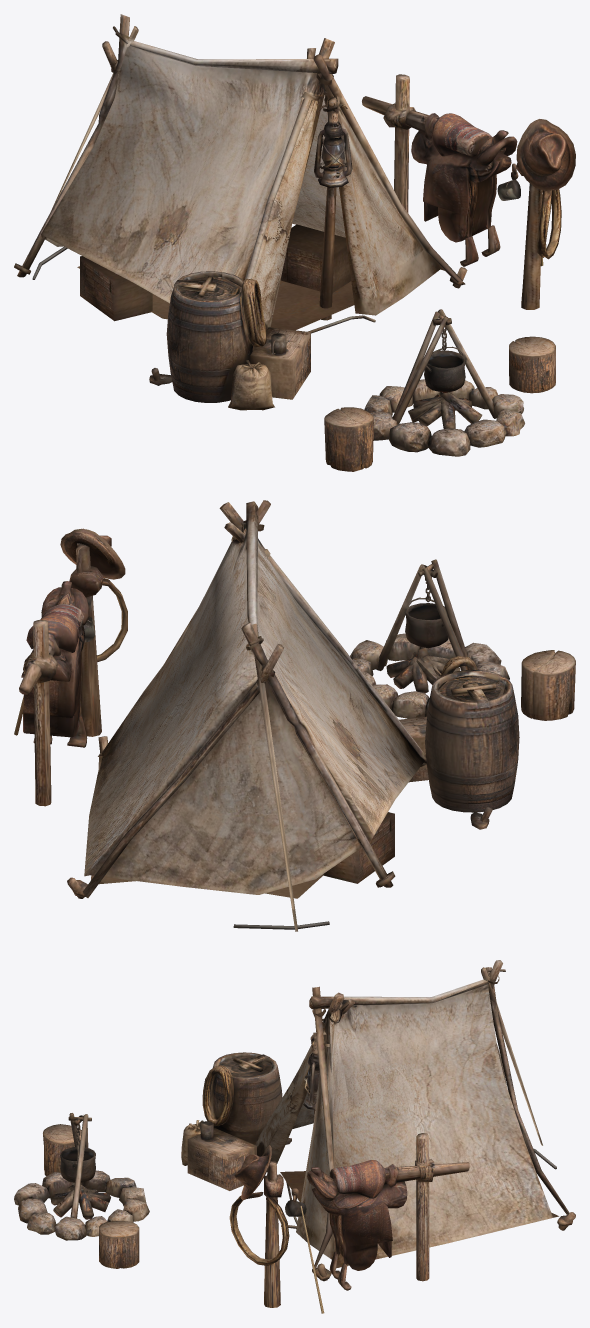
The model's file is camp1.glb.
3 views of the same model, one above another, from view 1: azimuth 30°, elevation 25°; view 2: azimuth 150°, elevation 25°; view 3: azimuth 270°, elevation 25° (orthographic). The views are drawn at different scales.
Parts seen in each view (by area): view 1: tripo_part_0; view 2: tripo_part_0; view 3: tripo_part_0.
Boxes of the visible parts, x1=… form: tripo_part_0: x1=14, y1=14, x2=575, y2=471; tripo_part_0: x1=14, y1=500, x2=575, y2=931; tripo_part_0: x1=14, y1=960, x2=575, y2=1313.
Size of the model in its own units: 4.5 by 2.76 by 5.8.
1 material, 1 textured.
